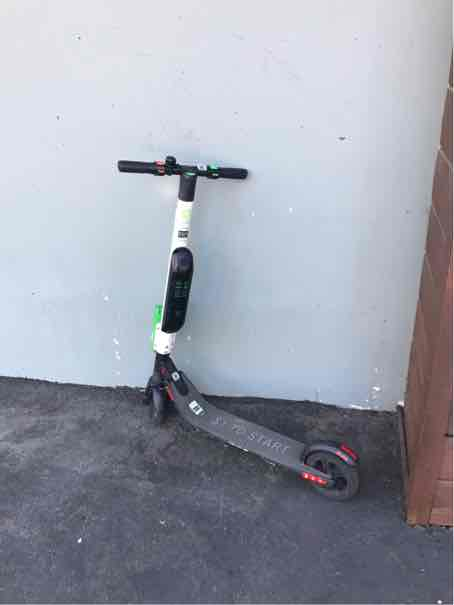scooter: (104, 145, 365, 506)
